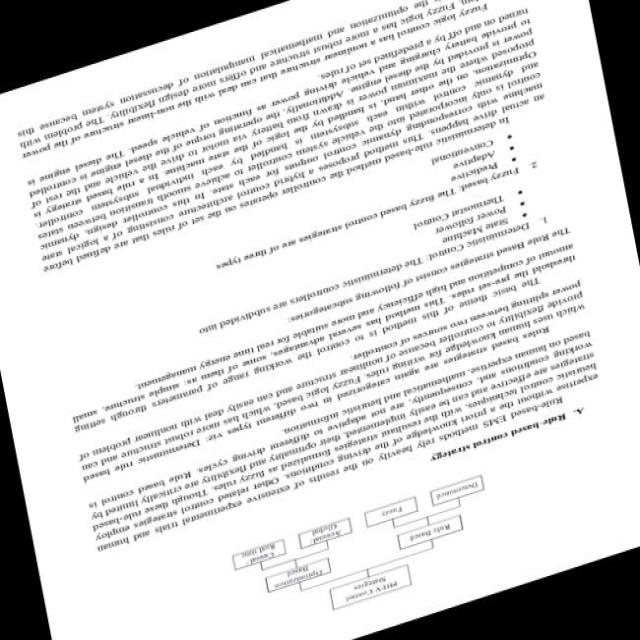Figure Detection - v3 Dataset Version2: (217, 457, 516, 640)
